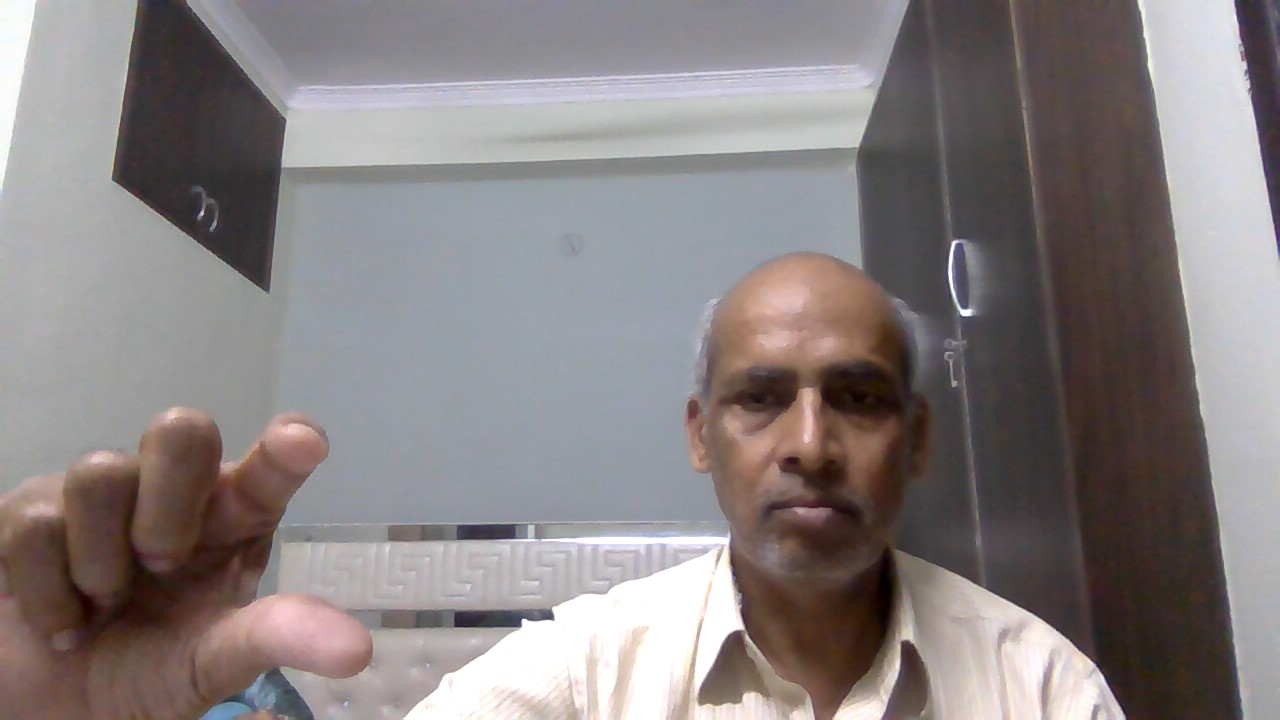Paste: (6, 399, 392, 713)
